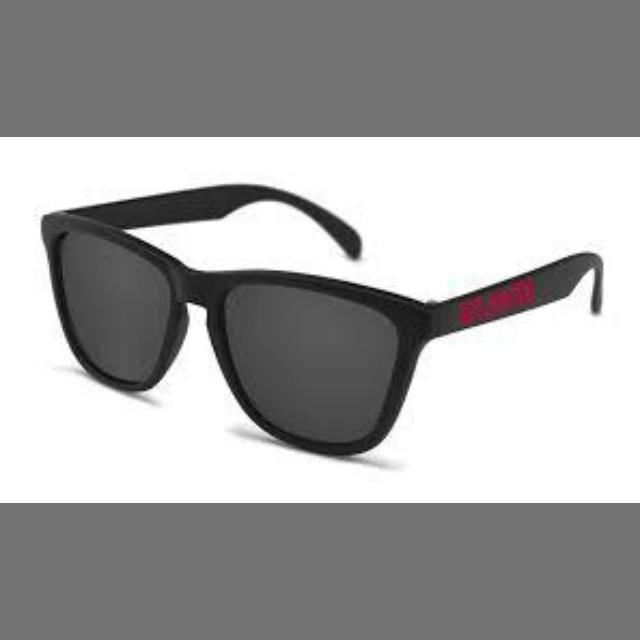Sunglasses: (39, 213, 425, 455)
